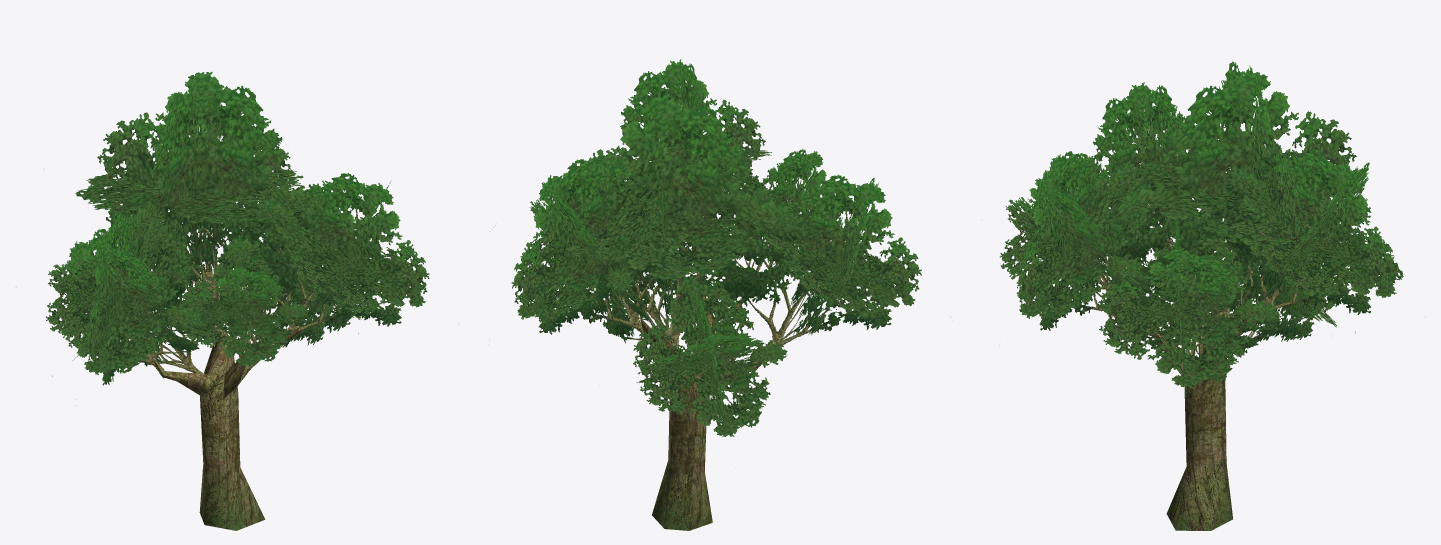
File: cj_graveyard_tree04.glb
3 views of the same model, side by side, from view 1: azimuth 30°, elevation 25°; view 2: azimuth 150°, elevation 25°; view 3: azimuth 270°, elevation 25° (orthographic). The views are drawn at different scales.
Visible parts, largest first — view 1: cj_graveyard_tree04 (×2); view 2: cj_graveyard_tree04 (×2); view 3: cj_graveyard_tree04 (×2).
Part boxes in pixels (x1,y1,x2,y2): cj_graveyard_tree04 (×2): (43,71,429,530); cj_graveyard_tree04 (×2): (491,59,921,530); cj_graveyard_tree04 (×2): (999,61,1403,530).
Size of the model in its own units: 40.09 by 49.62 by 39.72.
2 materials, 2 textured.
